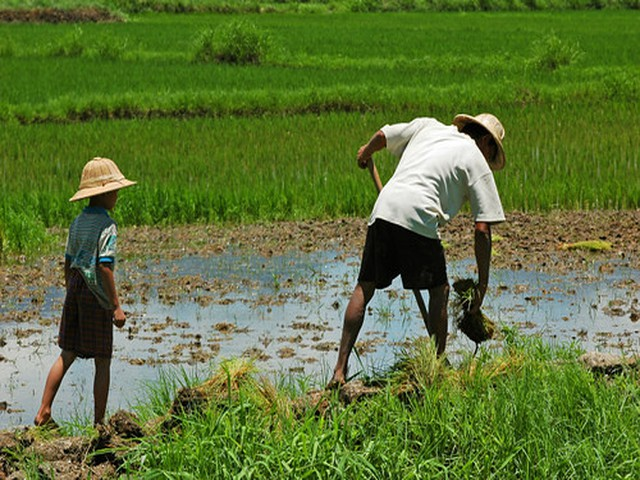Person: (326, 103, 510, 360), (36, 154, 137, 432)
